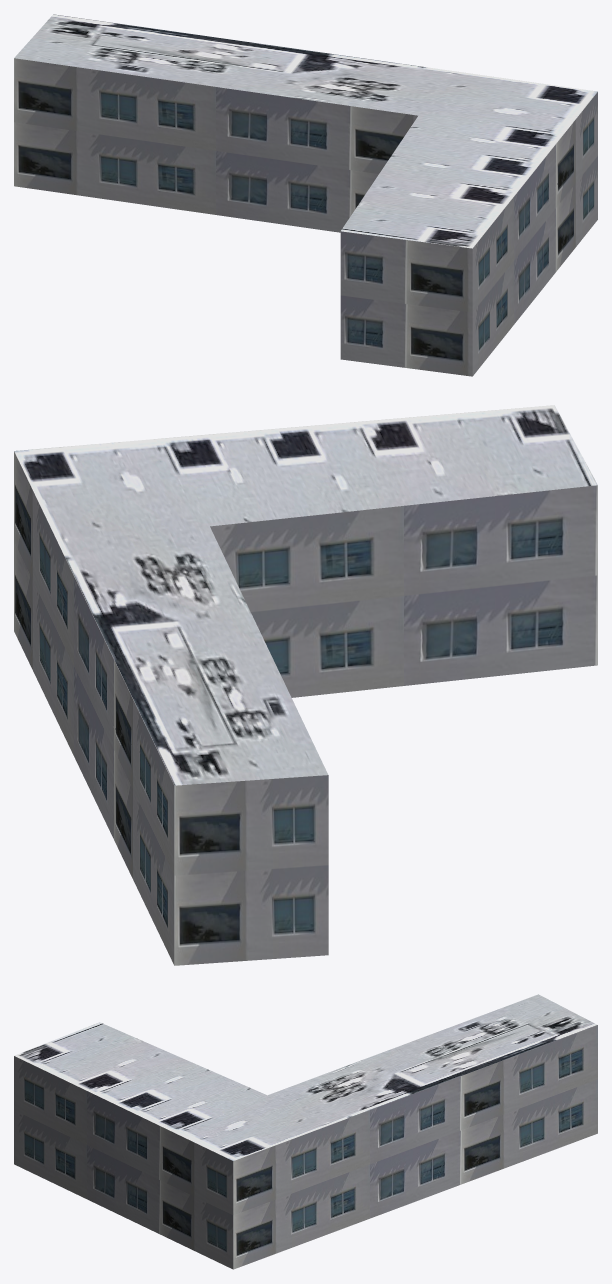
Rendered from ResTex__1627.fbx.
3 views of the same model, one above another, from view 1: azimuth 30°, elevation 25°; view 2: azimuth 150°, elevation 25°; view 3: azimuth 270°, elevation 25° (orthographic). The views are drawn at different scales.
Parts seen in each view (by area): view 1: CityEngineMaterial_10_m, CityEngineMaterial_4_m; view 2: CityEngineMaterial_10_m, CityEngineMaterial_4_m; view 3: CityEngineMaterial_10_m, CityEngineMaterial_4_m.
Boxes of the visible parts, x1=… form: CityEngineMaterial_10_m: x1=14, y1=58, x2=597, y2=376; CityEngineMaterial_4_m: x1=14, y1=14, x2=597, y2=248; CityEngineMaterial_10_m: x1=14, y1=451, x2=597, y2=965; CityEngineMaterial_4_m: x1=14, y1=405, x2=597, y2=785; CityEngineMaterial_10_m: x1=14, y1=1025, x2=597, y2=1269; CityEngineMaterial_4_m: x1=14, y1=994, x2=597, y2=1160.
Bounding box in the file's own units: 19.79 × 6 × 29.28.
Materials: 2 (2 with a texture image).
